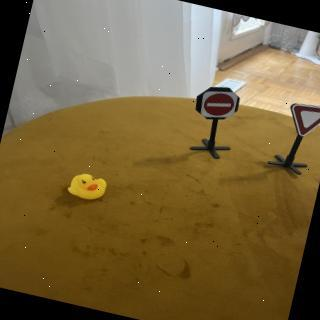duck_regular: (64, 169, 110, 206)
sign_noentry: (196, 84, 243, 126)
sign_yield: (284, 97, 320, 144)
